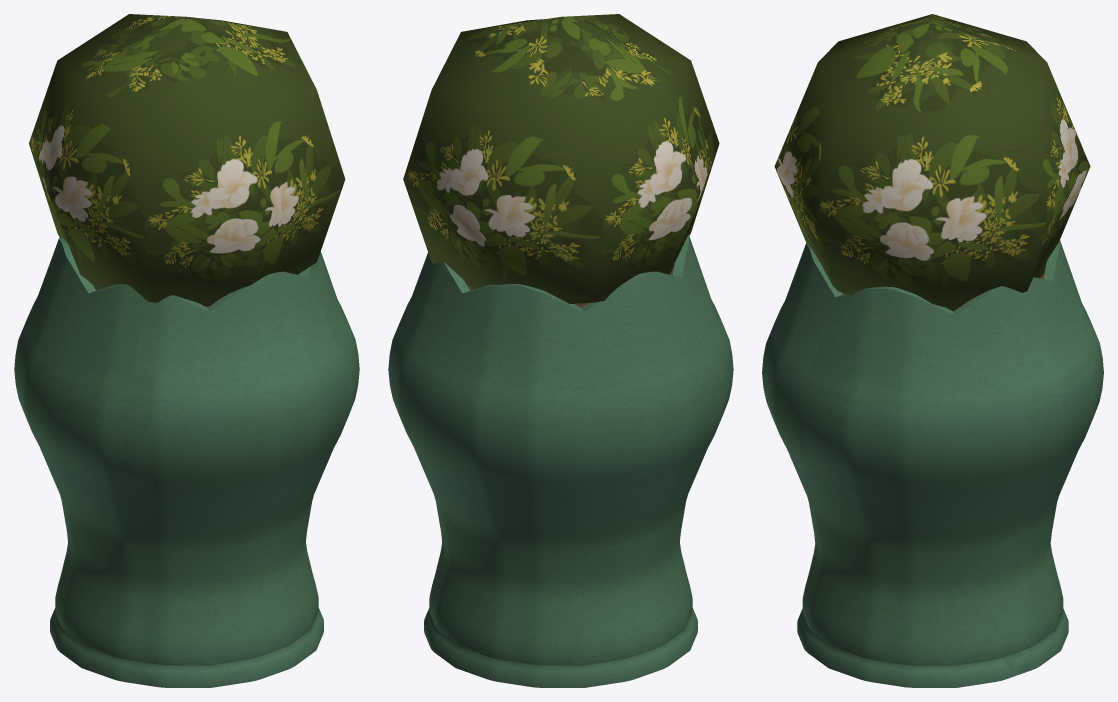
Rendered from classic vase.fbx.
The picture shows the model from 3 angles, left to right: view 1: azimuth 30°, elevation 25°; view 2: azimuth 150°, elevation 25°; view 3: azimuth 270°, elevation 25°; orthographic projection.
Parts seen in each view (by area): view 1: classic vase; view 2: classic vase; view 3: classic vase.
Boxes of the visible parts, <box> form: classic vase: <box>14,14,359,687</box>; classic vase: <box>388,14,733,687</box>; classic vase: <box>762,14,1103,687</box>.
Size of the model in its own units: 26.59 by 52.79 by 26.91.
4 materials, 4 textured.
